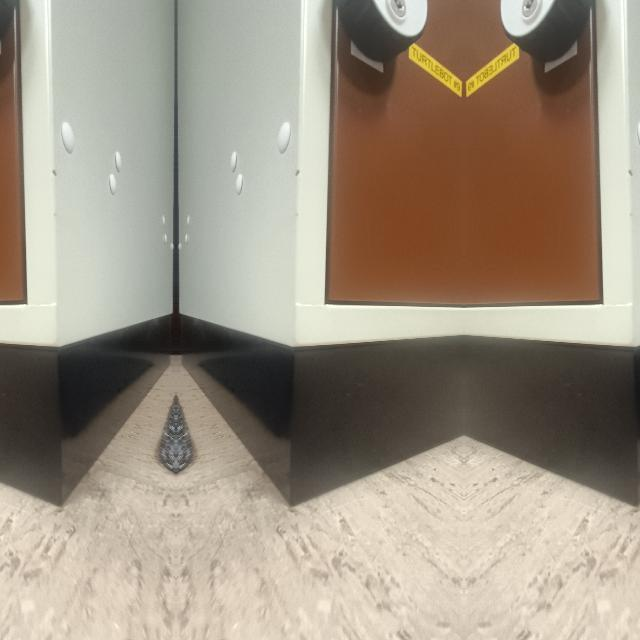obstacle: (176, 115, 462, 509), (465, 115, 640, 509), (0, 115, 173, 509)
